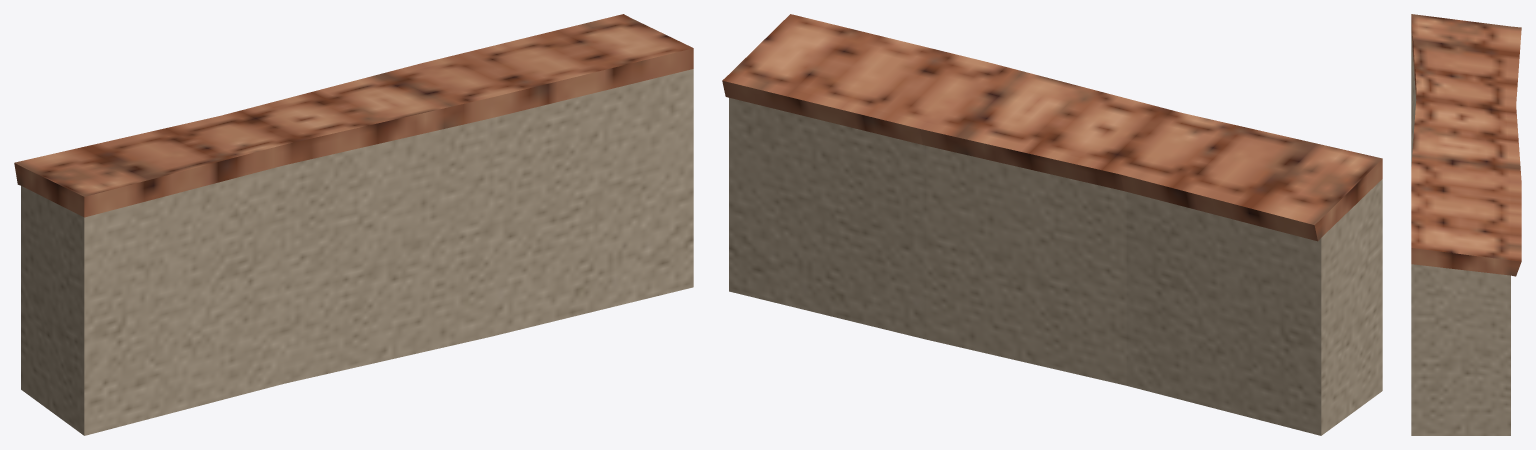
The model's file is plaster_wall.fbx.
3 renders of one model, left to right at view 1: azimuth 30°, elevation 25°; view 2: azimuth 150°, elevation 25°; view 3: azimuth 270°, elevation 25°, orthographic. The views are drawn at different scales.
Parts seen in each view (by area): view 1: plaster_wall; view 2: plaster_wall; view 3: plaster_wall.
Boxes of the visible parts, left/top/right/bottom form: plaster_wall: left=14, top=14, right=693, bottom=435; plaster_wall: left=722, top=14, right=1382, bottom=435; plaster_wall: left=1411, top=14, right=1521, bottom=435.
Bounding box in the file's own units: 200 × 74.98 × 39.91.
Materials: 2 (2 with a texture image).
